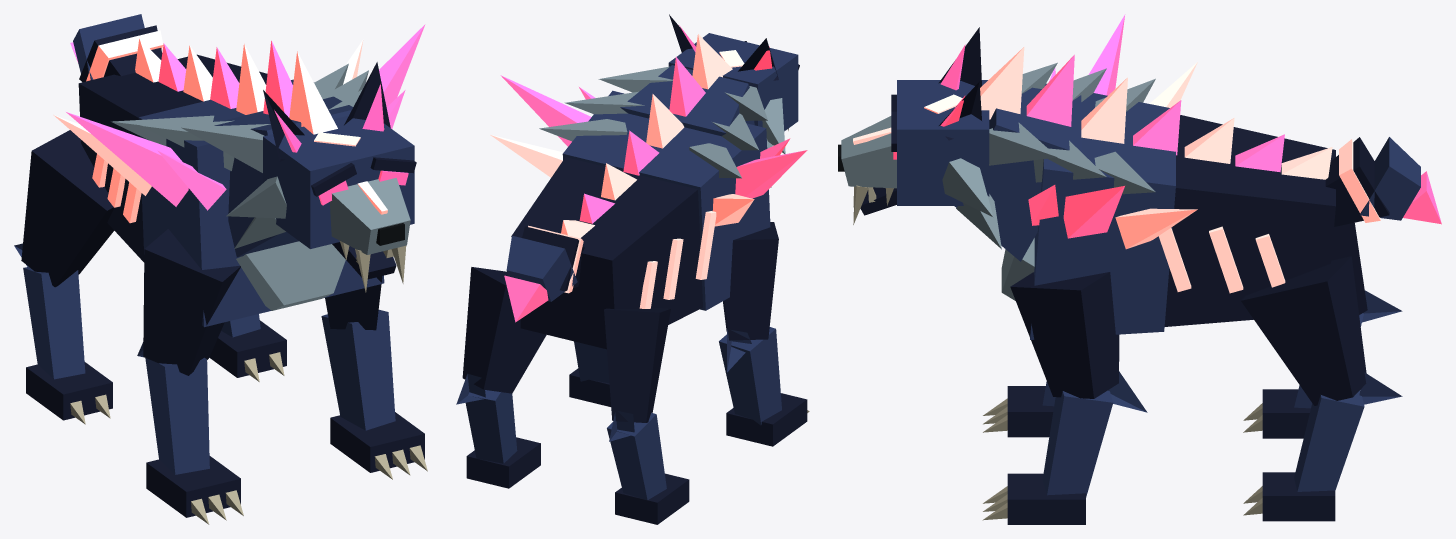
The model's file is foreman.glb.
3 renders of one model, left to right at view 1: azimuth 30°, elevation 25°; view 2: azimuth 150°, elevation 25°; view 3: azimuth 270°, elevation 25°, orthographic. The views are drawn at different scales.
Visible parts, largest first — view 1: FForemanHull, FForemanGlow; view 2: FForemanHull, FForemanGlow; view 3: FForemanHull, FForemanGlow.
Part boxes in pixels (x1=…): FForemanHull: x1=14, y1=14, x2=427, y2=524; FForemanGlow: x1=53, y1=24, x2=425, y2=223; FForemanHull: x1=456, y1=14, x2=809, y2=524; FForemanGlow: x1=490, y1=25, x2=807, y2=322; FForemanHull: x1=838, y1=27, x2=1420, y2=524; FForemanGlow: x1=853, y1=14, x2=1441, y2=293.
Size of the model in its own units: 2.9 by 3.32 by 4.31.
